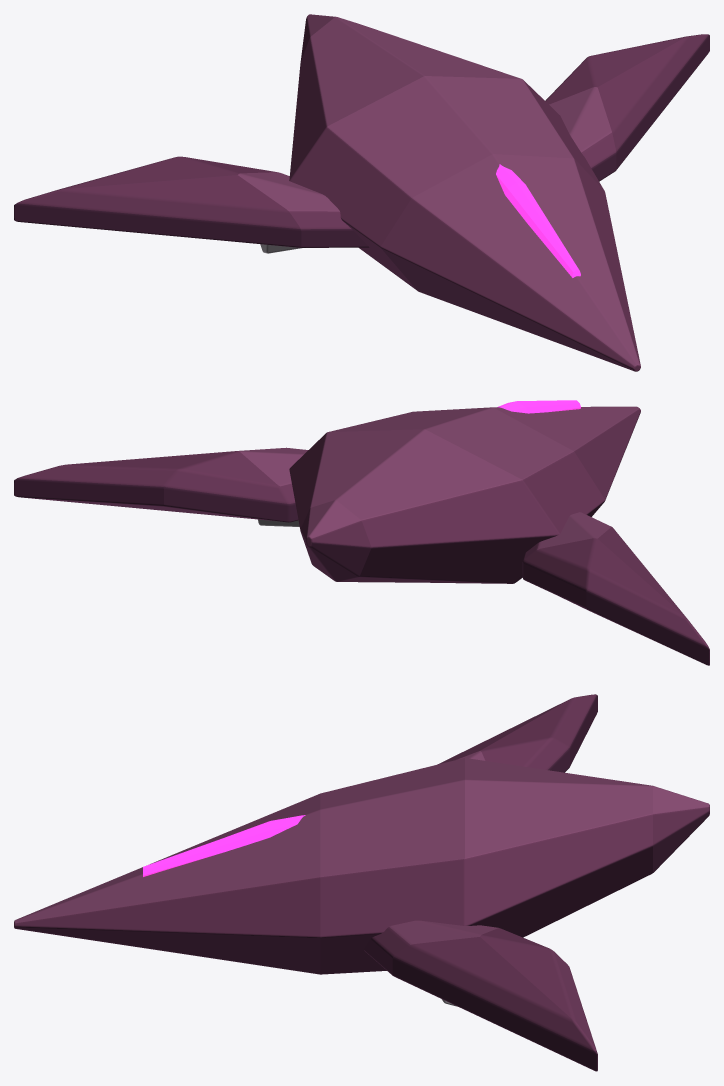
The model's file is Follower.fbx.
3 views of the same model, one above another, from view 1: azimuth 30°, elevation 25°; view 2: azimuth 150°, elevation 25°; view 3: azimuth 270°, elevation 25° (orthographic). The views are drawn at different scales.
Parts seen in each view (by area): view 1: Armor 1, Armor 2, Armor 3, Armor 4; view 2: Armor 1, Armor 3, Armor 2, Armor 4; view 3: Armor 1, Armor 3, Armor 2, Armor 4.
Part boxes in pixels (<box>): Armor 1: <box>289,14,640,371</box>; Armor 2: <box>14,156,369,253</box>; Armor 3: <box>545,34,709,181</box>; Armor 4: <box>496,164,580,277</box>; Armor 1: <box>289,406,640,583</box>; Armor 3: <box>14,447,307,526</box>; Armor 2: <box>522,512,709,665</box>; Armor 4: <box>497,400,580,413</box>; Armor 1: <box>14,758,709,974</box>; Armor 3: <box>364,920,597,1071</box>; Armor 2: <box>437,694,597,772</box>; Armor 4: <box>143,815,305,876</box>.
Bounding box in the file's own units: 0.0798 × 0.0182 × 0.0652.
